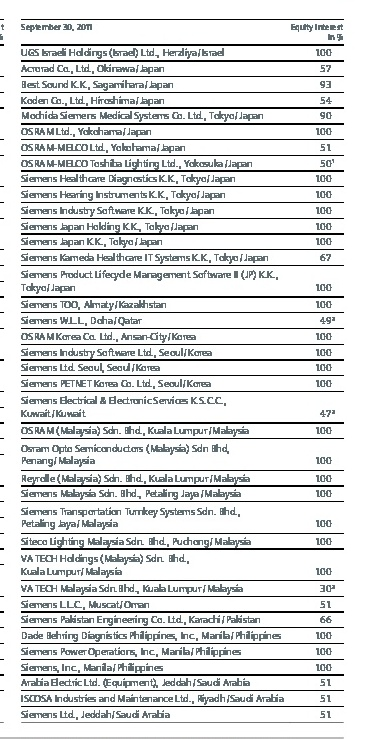table: (0, 0, 367, 739)
